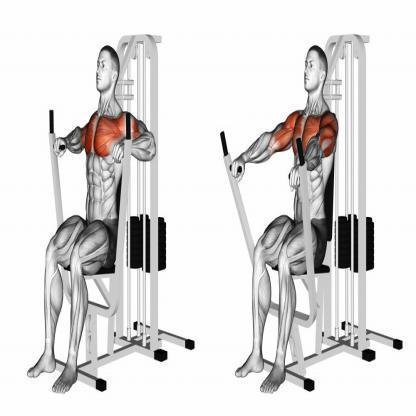Chest Press machine: (213, 28, 405, 397), (27, 27, 197, 395)
